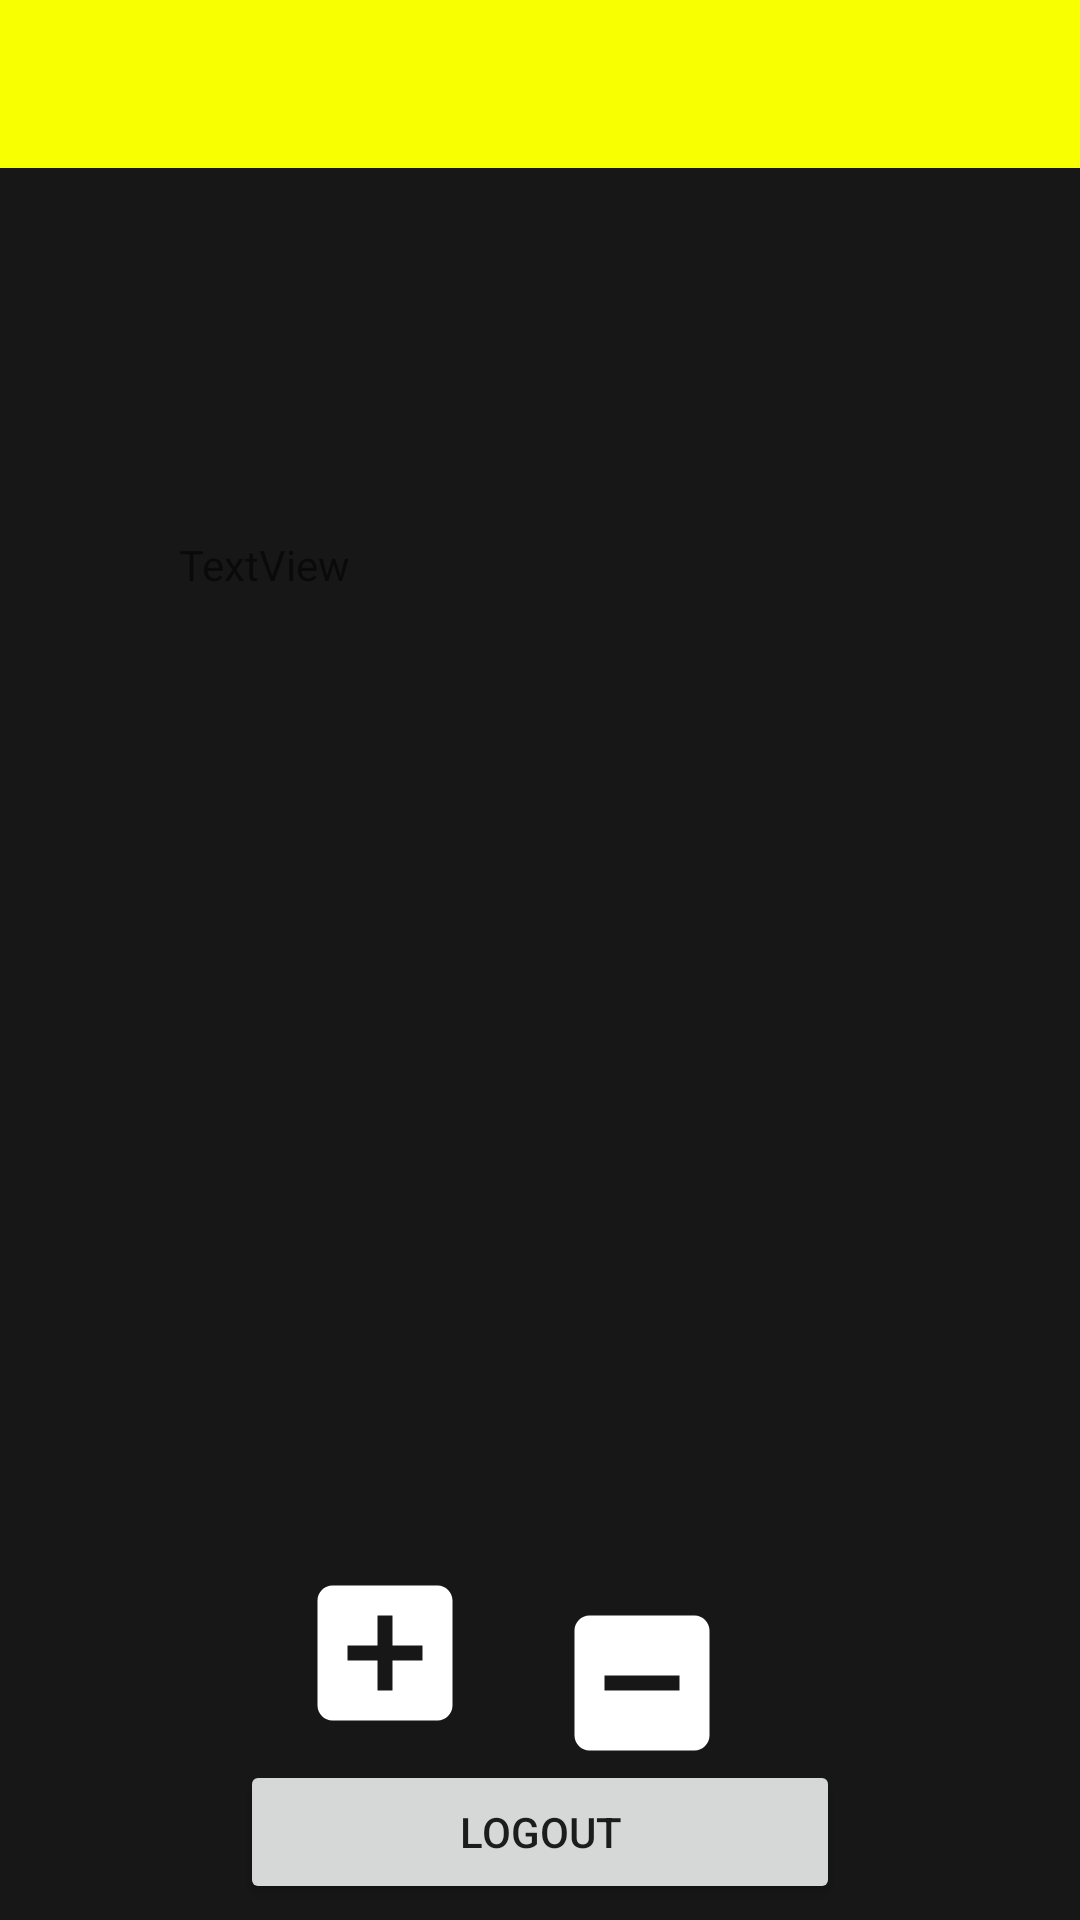

Named icons in this screenshot (1080px×1920px) and their bounding boxes, [x1, y1, x2, y2]:
minus: [574, 1615, 710, 1751]
plus: [317, 1585, 453, 1721]
